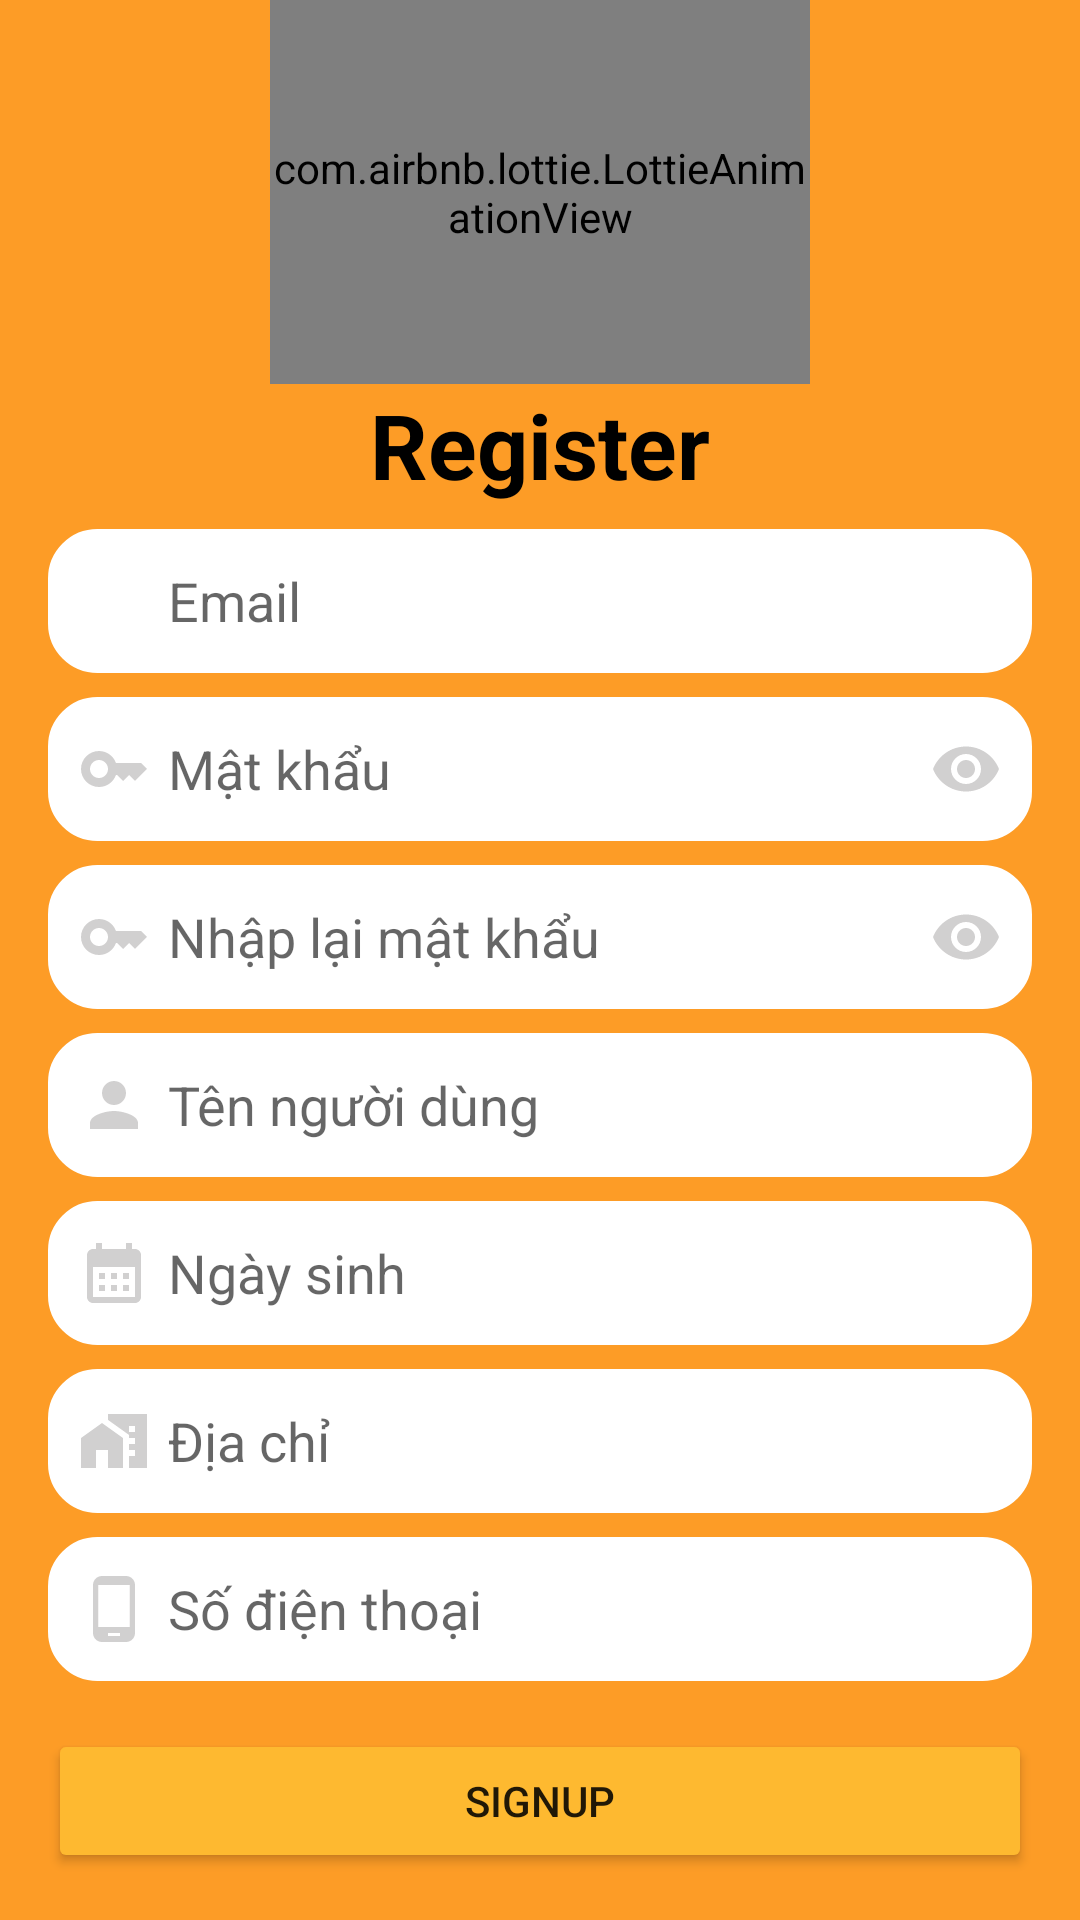

Point at icon controls on the screen. Image size 1080w x 1920h, points as (x,y).
address: (114,1441)
calendar: (114,1273)
eye: (966,769), (966,937)
password: (114,769), (114,937)
phone: (114,1609)
user: (114,1105)
